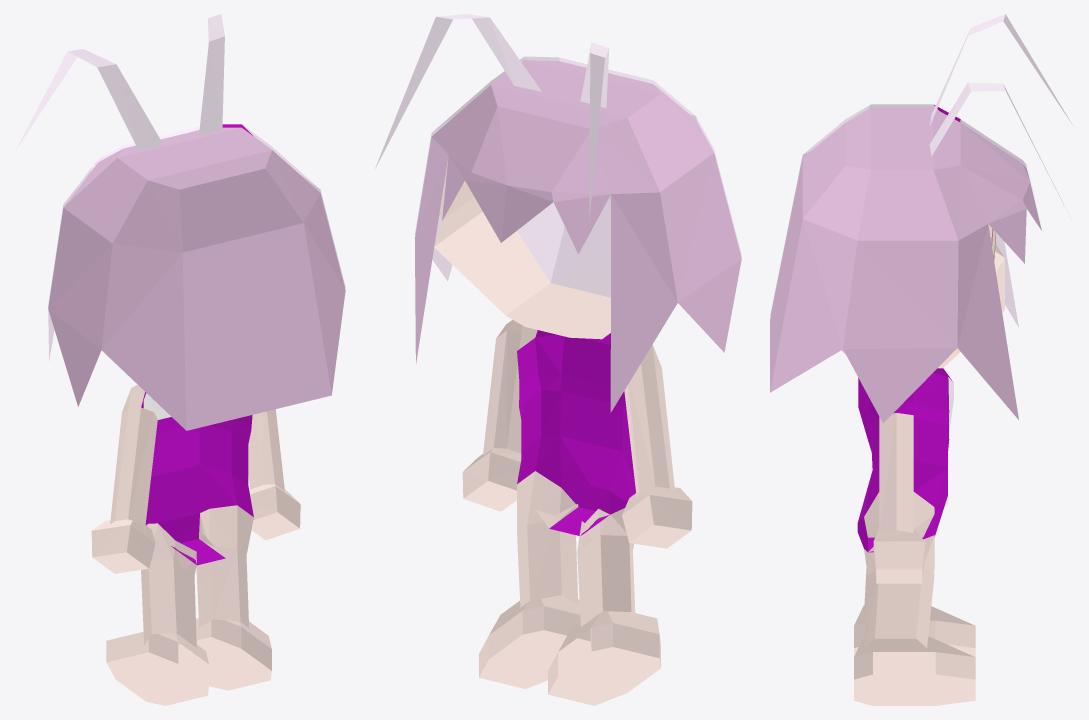
File: ps2_save-icons_furasera.glb
3 views of the same model, side by side, from view 1: azimuth 30°, elevation 25°; view 2: azimuth 150°, elevation 25°; view 3: azimuth 270°, elevation 25° (orthographic). The views are drawn at different scales.
Visible parts, largest first — view 1: hura.ico; view 2: hura.ico; view 3: hura.ico.
Boxes of the visible parts, left/top/right/bottom form: hura.ico: left=15, top=14, right=345, bottom=705; hura.ico: left=375, top=14, right=741, bottom=705; hura.ico: left=770, top=14, right=1072, bottom=705.
Bounding box in the file's own units: 1.56 × 3.6 × 1.6.
1 material, 1 textured.
